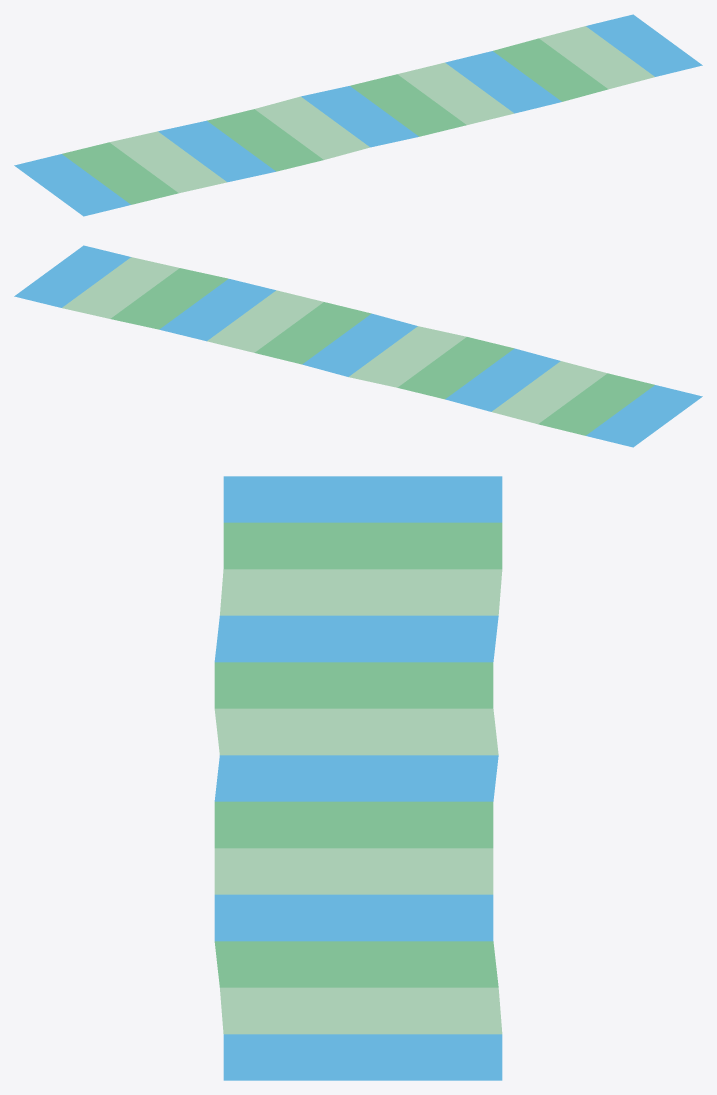
File: carpet_018.glb
3 renders of one model, top to bottom at view 1: azimuth 30°, elevation 25°; view 2: azimuth 150°, elevation 25°; view 3: azimuth 270°, elevation 25°, orthographic. The views are drawn at different scales.
Visible parts, largest first — view 1: carpet_018; view 2: carpet_018; view 3: carpet_018.
Boxes of the visible parts, bbox=[...] form: carpet_018: bbox=[14, 14, 702, 216]; carpet_018: bbox=[14, 245, 702, 447]; carpet_018: bbox=[214, 476, 502, 1080].
Bounding box in the file's own units: 3.46 × 1.13e-07 × 0.6955.
1 material, 1 textured.
